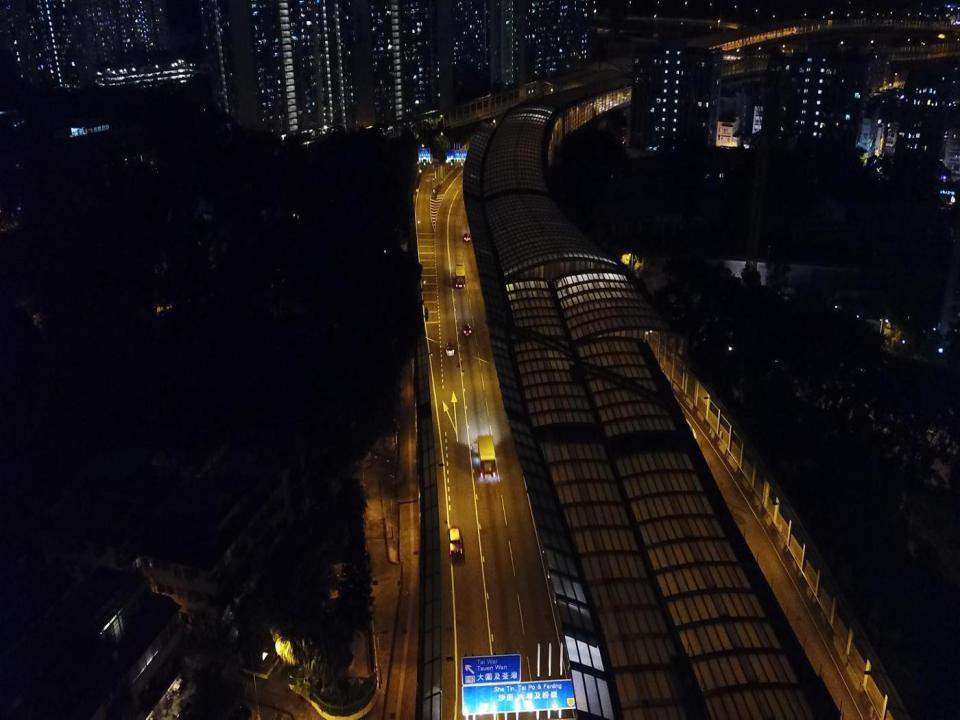car: (448, 528, 463, 556), (444, 341, 455, 356), (461, 323, 472, 336), (463, 232, 471, 242)
truck: (477, 434, 497, 478), (454, 264, 466, 288)
